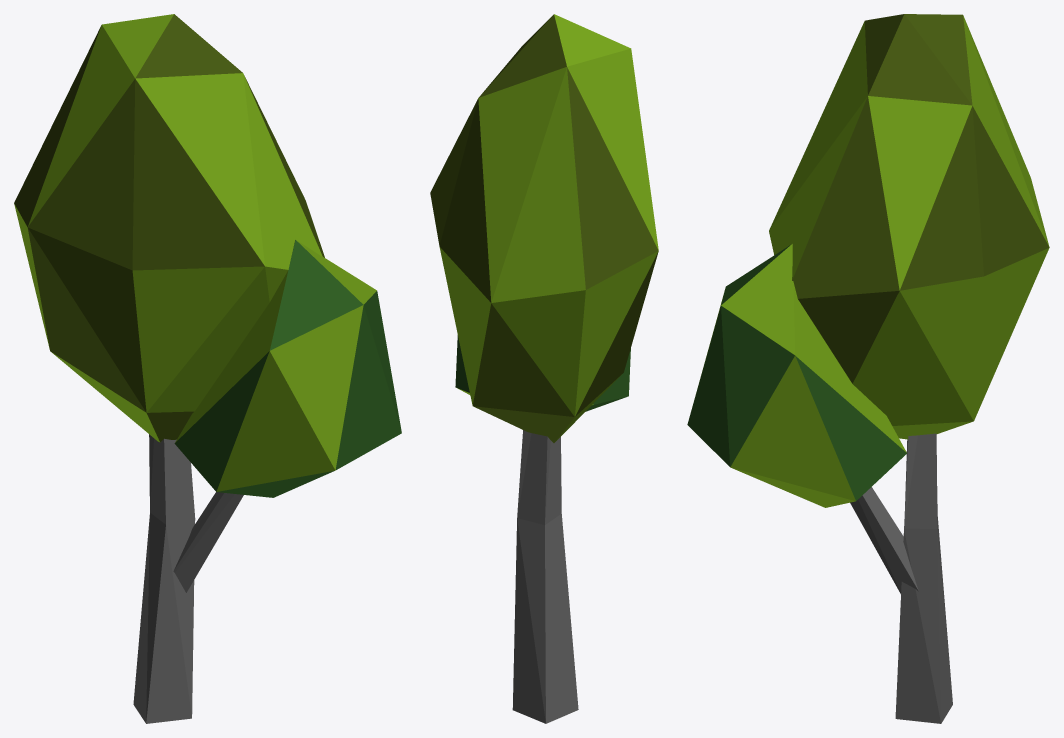
The model's file is Tree1_M1_6_medium.fbx.
The picture shows the model from 3 angles, left to right: view 1: azimuth 30°, elevation 25°; view 2: azimuth 150°, elevation 25°; view 3: azimuth 270°, elevation 25°; orthographic projection. The views are drawn at different scales.
Visible parts, largest first — view 1: Tree1_M1_6_medium; view 2: Tree1_M1_6_medium; view 3: Tree1_M1_6_medium.
Boxes of the visible parts, x1,y1,x2,y2 form: Tree1_M1_6_medium: (14,14,401,723); Tree1_M1_6_medium: (430,14,658,723); Tree1_M1_6_medium: (687,14,1049,723).
Bounding box in the file's own units: 168 × 412 × 193.
